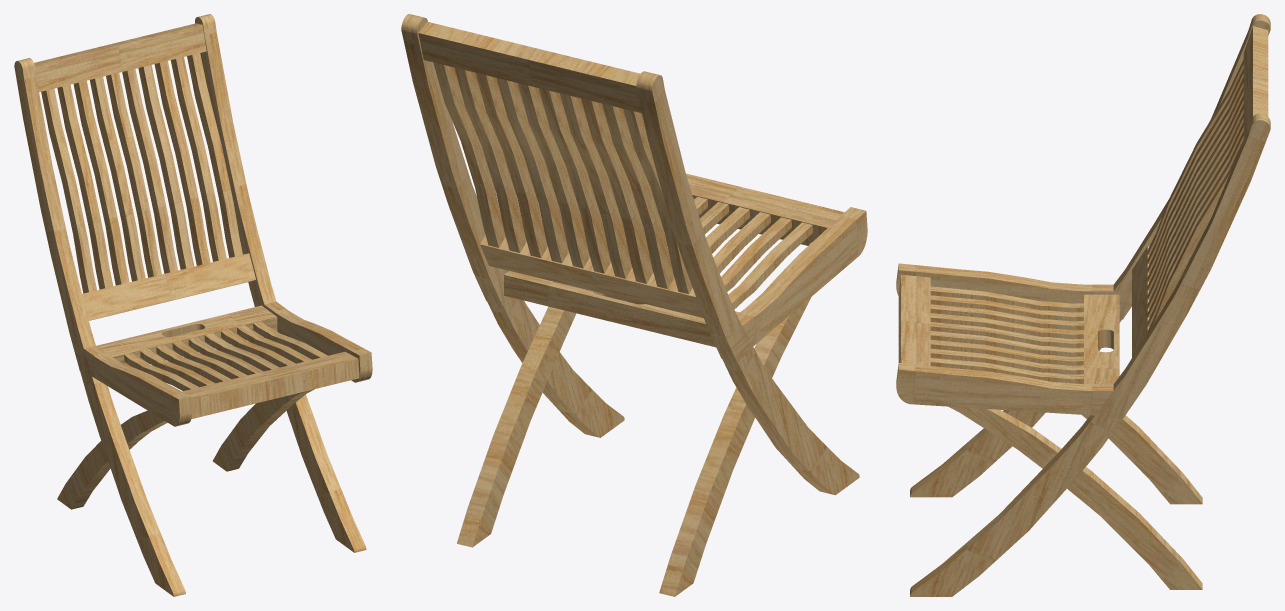
The model's file is istana-folldingchair_nocolor.fbx.
3 renders of one model, left to right at view 1: azimuth 30°, elevation 25°; view 2: azimuth 150°, elevation 25°; view 3: azimuth 270°, elevation 25°, orthographic. The views are drawn at different scales.
Parts seen in each view (by area): view 1: istana-falldingchair; view 2: istana-falldingchair; view 3: istana-falldingchair.
Part boxes in pixels (left/top/right/bottom): istana-falldingchair: left=14, top=14, right=372, bottom=596; istana-falldingchair: left=401, top=14, right=867, bottom=596; istana-falldingchair: left=896, top=14, right=1270, bottom=596.
Bounding box in the file's own units: 43 × 90 × 64.
Materials: 2 (2 with a texture image).
